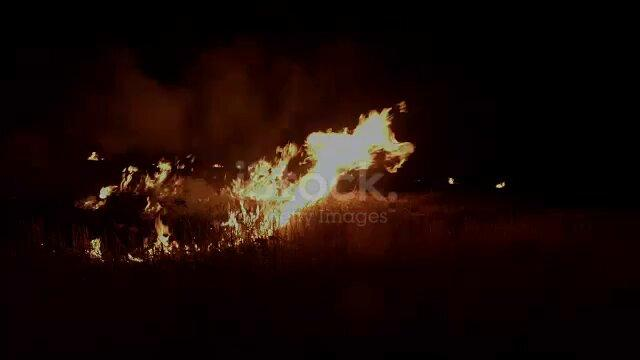fire: (65, 86, 427, 260)
